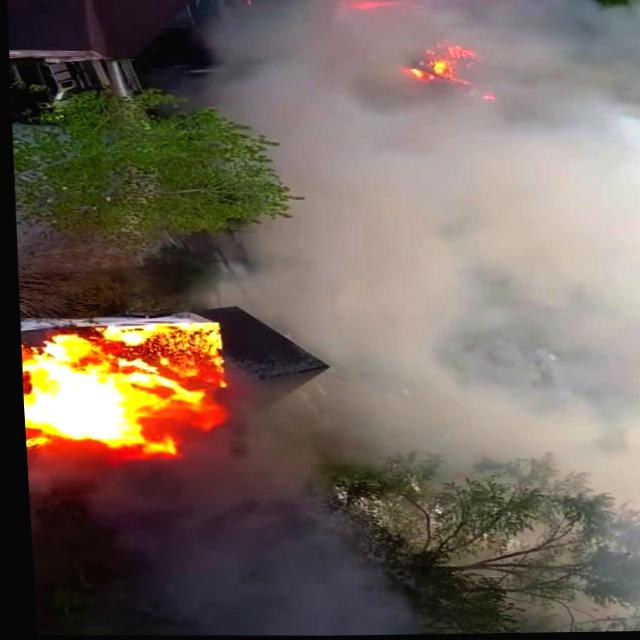fire: (15, 329, 224, 450)
smoke: (425, 44, 640, 450)
